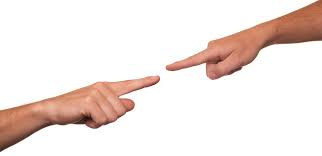hand: (27, 70, 171, 141), (155, 11, 281, 88)
